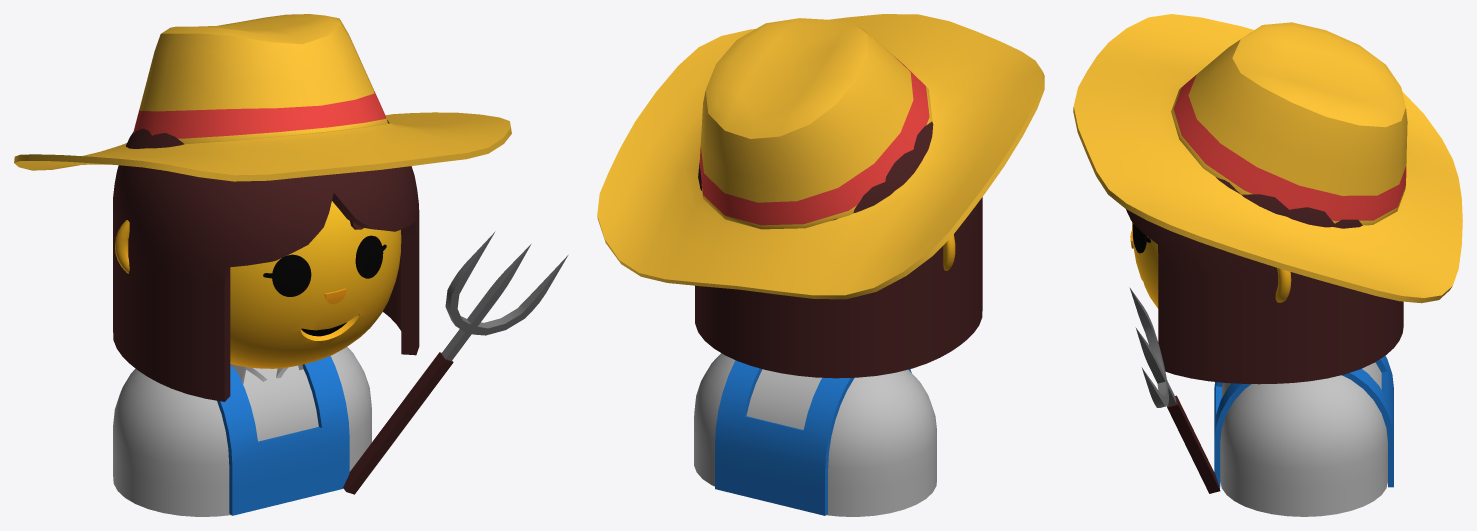
Rendered from woman_farmer.fbx.
The picture shows the model from 3 angles, left to right: view 1: azimuth 30°, elevation 25°; view 2: azimuth 150°, elevation 25°; view 3: azimuth 270°, elevation 25°; orthographic projection. The views are drawn at different scales.
Visible parts, largest first — view 1: Plane.046, Roundcube.092, Sphere.050, Roundcube.091, Sphere.051, Circle.599, Circle.591; view 2: Plane.046, Roundcube.092, Sphere.050, Sphere.051; view 3: Plane.046, Roundcube.092, Sphere.050, Circle.599, Sphere.051, Roundcube.091.
Part boxes in pixels (x1,y1,x2,y2): Plane.046: (14,14,511,181); Roundcube.092: (113,120,419,401); Sphere.050: (113,347,371,516); Roundcube.091: (230,201,401,368); Sphere.051: (217,356,349,515); Circle.599: (343,231,568,494); Circle.591: (272,235,383,296); Plane.046: (597,14,1044,299); Roundcube.092: (695,121,982,378); Sphere.050: (694,353,936,516); Sphere.051: (715,360,911,515); Plane.046: (1073,14,1462,303); Roundcube.092: (1126,177,1403,384); Sphere.050: (1220,362,1387,516); Circle.599: (1129,287,1220,493); Sphere.051: (1214,356,1393,487); Roundcube.091: (1132,222,1158,308).
Size of the model in its own units: 228 by 235 by 194.
2 materials, 2 textured.
